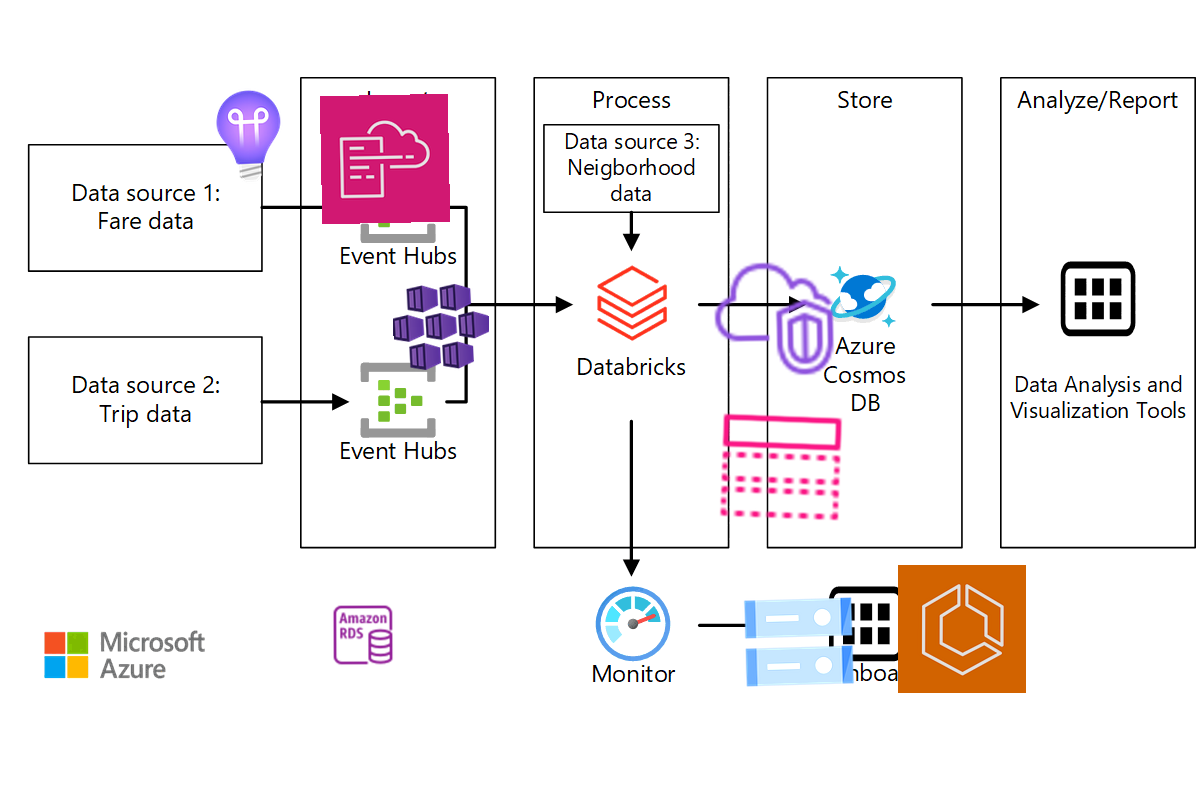aws_amazon_elastic_container_service: (897, 564, 1027, 694)
aws_aurora_amazon_rds_instance: (330, 602, 396, 668)
aws_cloudformation: (319, 93, 451, 225)
aws_simple_notification_service_topic: (714, 400, 848, 534)
aws_vpc_virtual_private_cloud_vpc: (708, 253, 840, 385)
azure_application_insights: (198, 85, 300, 187)
azure_kubernetes_services: (390, 275, 492, 377)
gcp_cloud_storage: (733, 576, 865, 708)
